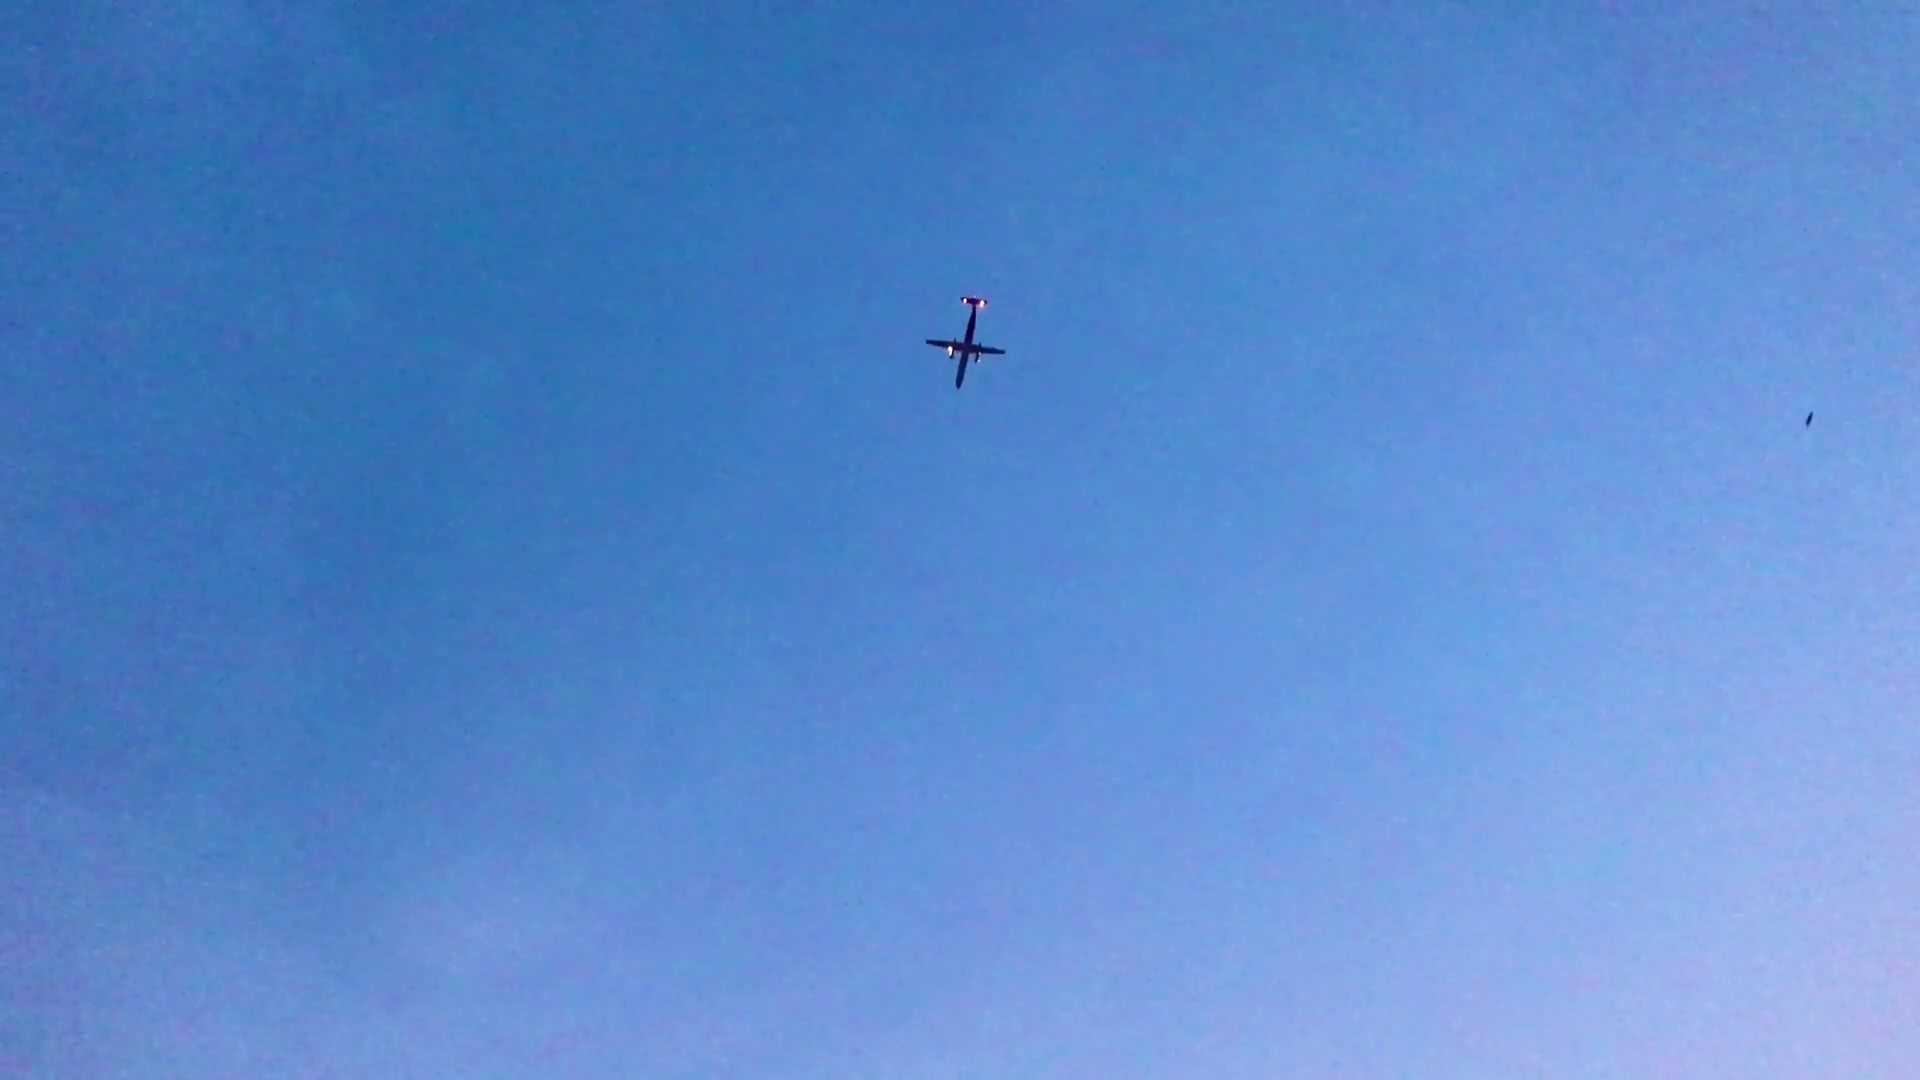plane: (926, 295, 1007, 390)
